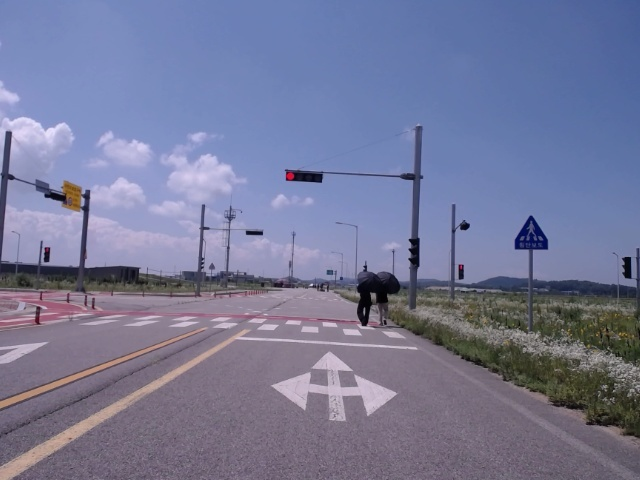red_4: (286, 172, 322, 183)
